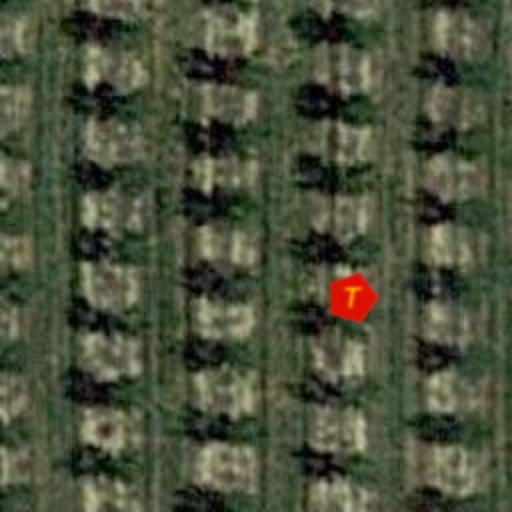pentagon: (324, 270, 380, 326)
